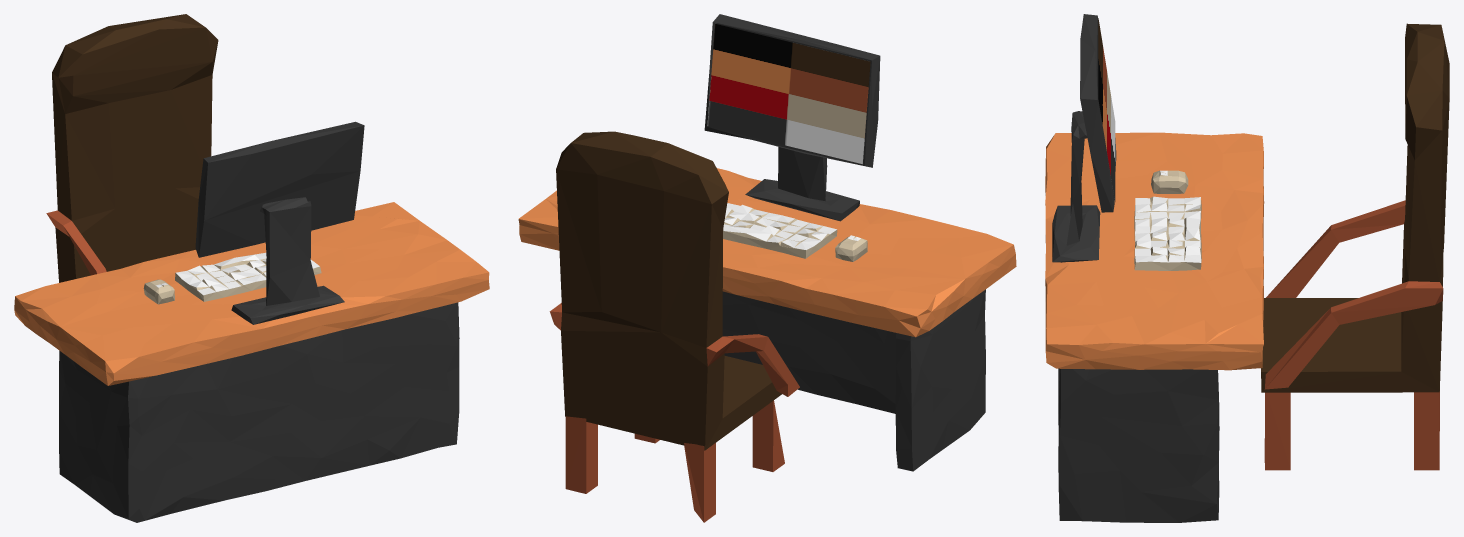
The model's file is desk_setup.fbx.
The picture shows the model from 3 angles, left to right: view 1: azimuth 30°, elevation 25°; view 2: azimuth 150°, elevation 25°; view 3: azimuth 270°, elevation 25°; orthographic projection. The views are drawn at different scales.
Parts seen in each view (by area): view 1: desk, chair, monitor, keyboard, mouse; view 2: chair, desk, monitor.screen, monitor, keyboard, mouse; view 3: desk, chair, monitor, keyboard, monitor.screen, mouse.
Part boxes in pixels (x1,y1,x2,y2): desk: (14, 202, 489, 522); chair: (46, 14, 218, 282); monitor: (195, 121, 364, 324); keyboard: (175, 252, 321, 301); mouse: (143, 279, 174, 304); chair: (549, 131, 799, 522); desk: (518, 168, 1016, 471); monitor.screen: (707, 24, 870, 164); monitor: (704, 14, 880, 221); keyboard: (723, 203, 837, 258); mouse: (835, 235, 867, 261); desk: (1045, 132, 1264, 522); chair: (1261, 23, 1449, 470); monitor: (1052, 14, 1116, 262); keyboard: (1134, 196, 1201, 270); monitor.screen: (1098, 18, 1115, 202); mouse: (1151, 170, 1188, 193).
Size of the model in its own units: 2 by 1.73 by 1.62.
